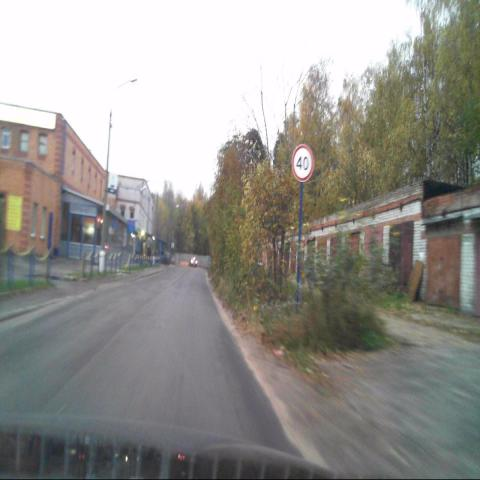3_24: (292, 145, 312, 182)
